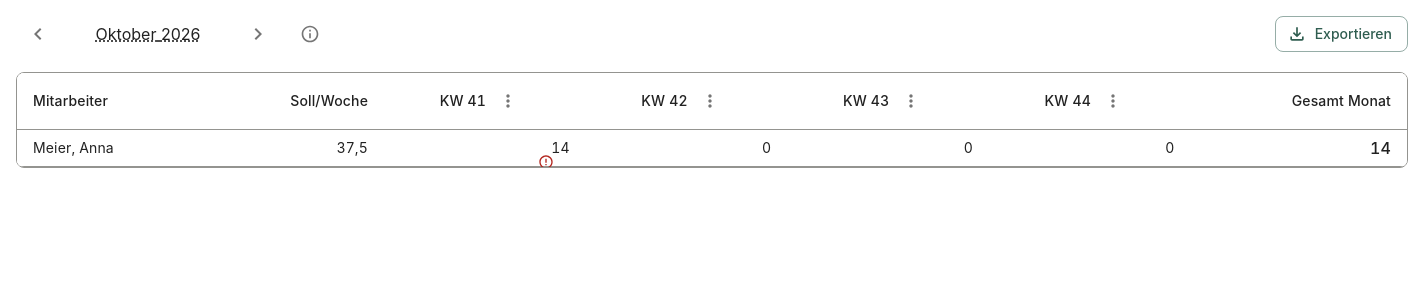
Test case: MonthOverviewView › shows the week-cell warning tooltip on hover from tablet width up
Hover over the button named "Fehler anzeigen".
mouse_move(546, 162)  # box [524, 140, 568, 184]
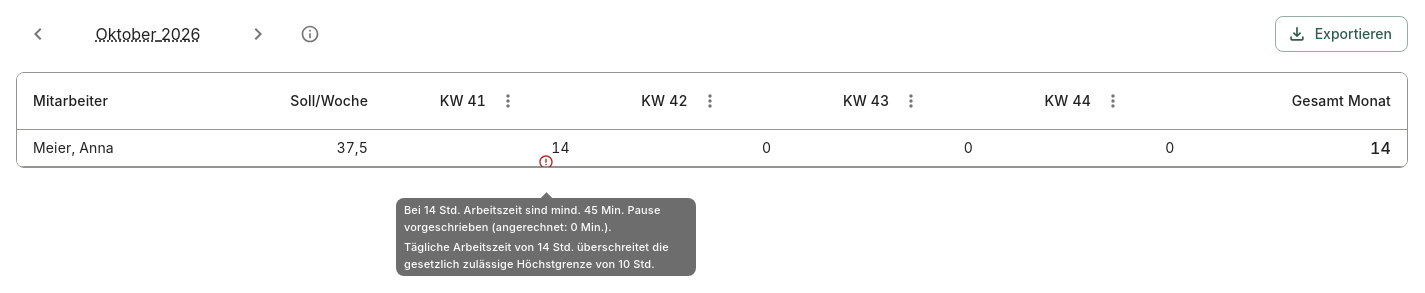
Check: the text "überschreitet die gesetzlich zulässige Höchstgrenze" is shown, box [404, 240, 669, 270]
Move the pointer off the button named "Fehler anzeigen", box [524, 140, 568, 184]
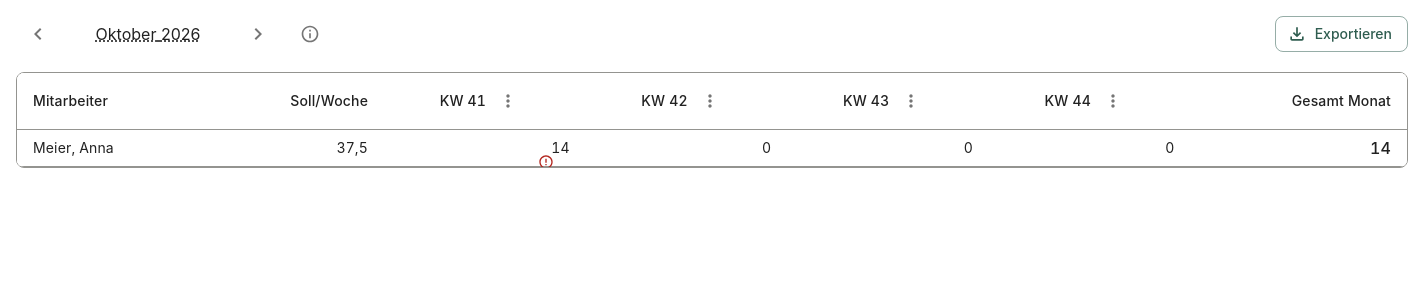
Check: the text "überschreitet die gesetzlich zulässige Höchstgrenze" is gone
